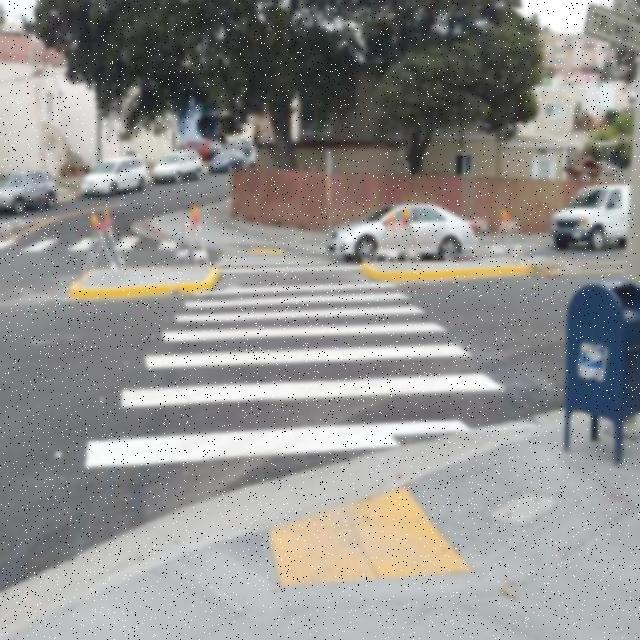crosswalk: (99, 251, 528, 468), (3, 232, 186, 254)
